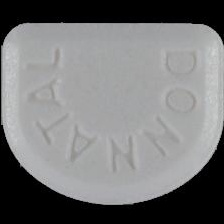59212-425: (0, 0, 224, 224)
